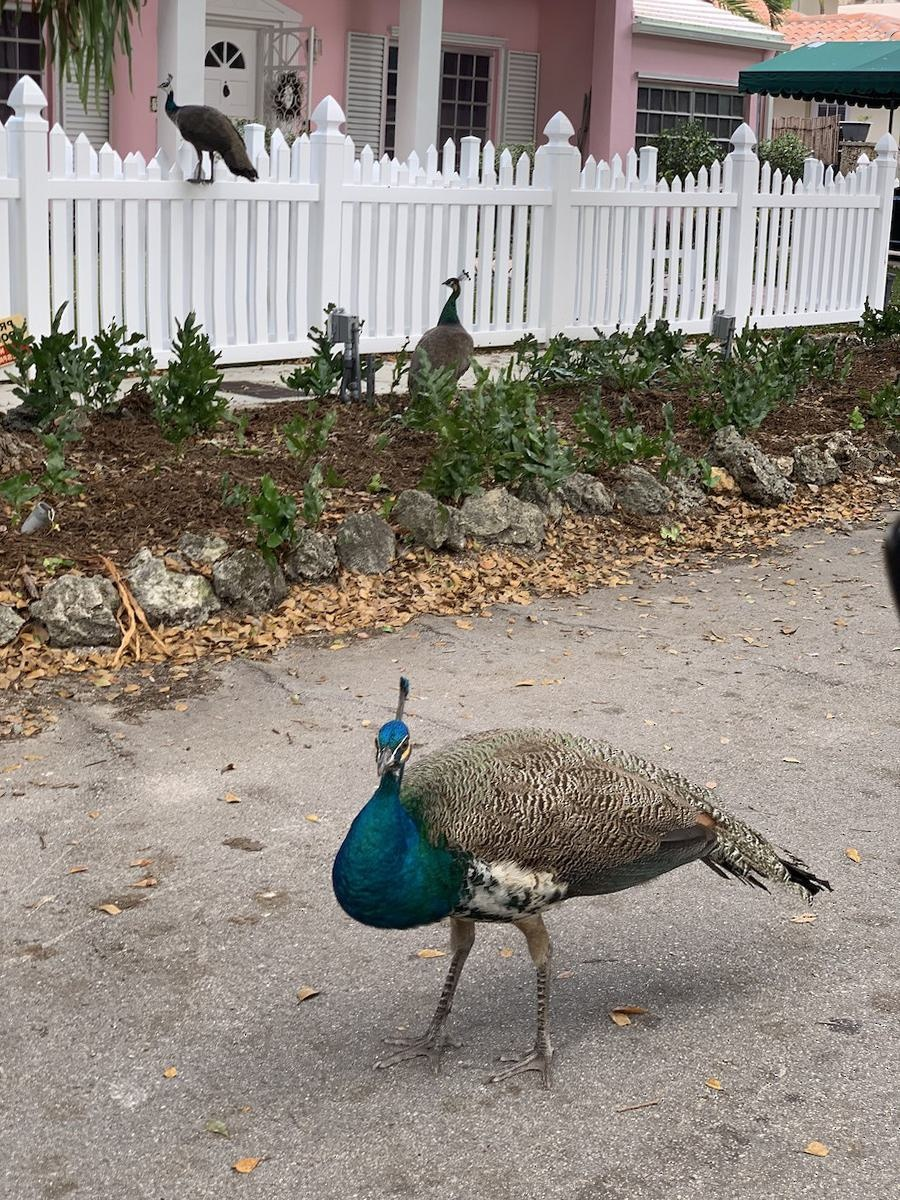peacock: (302, 682, 854, 1056)
